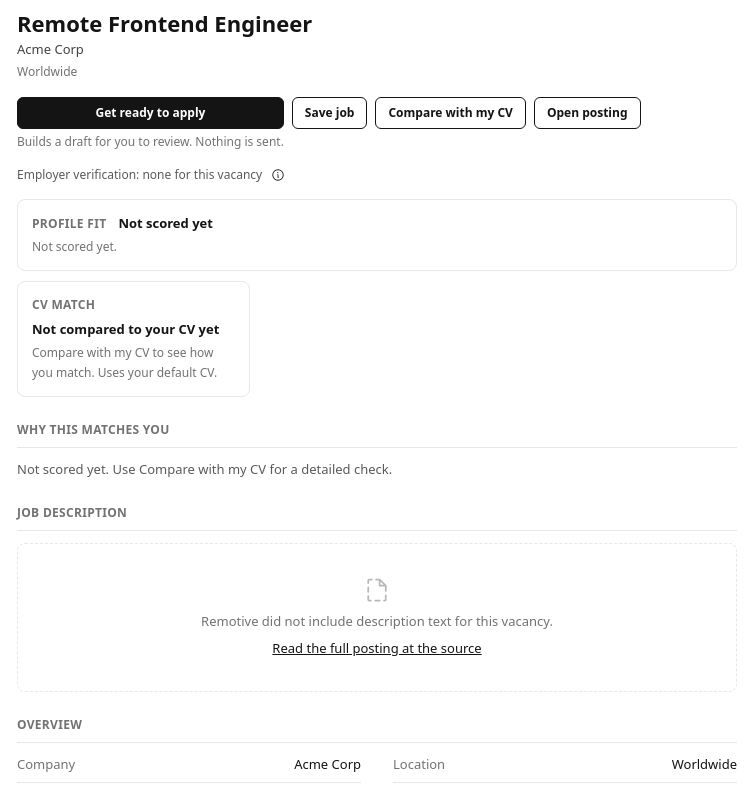
Test: VacancyDetail CV assistant opening (issue #453) › opens from one control whose label follows the state
This screenshot has width=754, height=792.
Click the button "Compare with my CV".
click(451, 113)  # box [376,97,526,129]
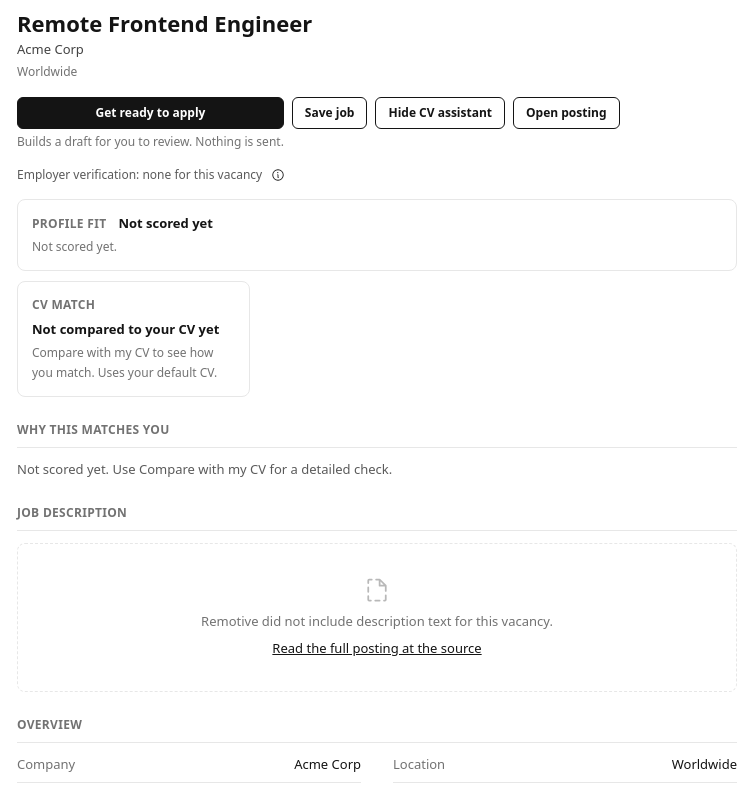
Expected: the button "Hide CV assistant" is expanded, [376,97,505,129]
